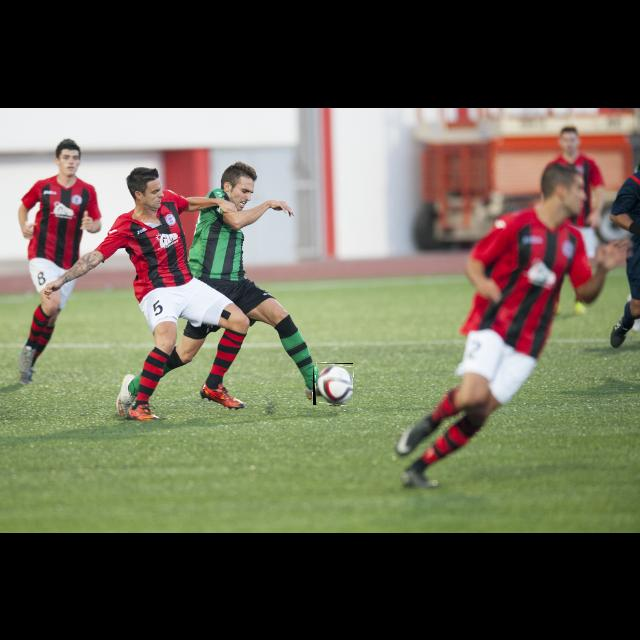Football: (313, 363, 353, 405)
